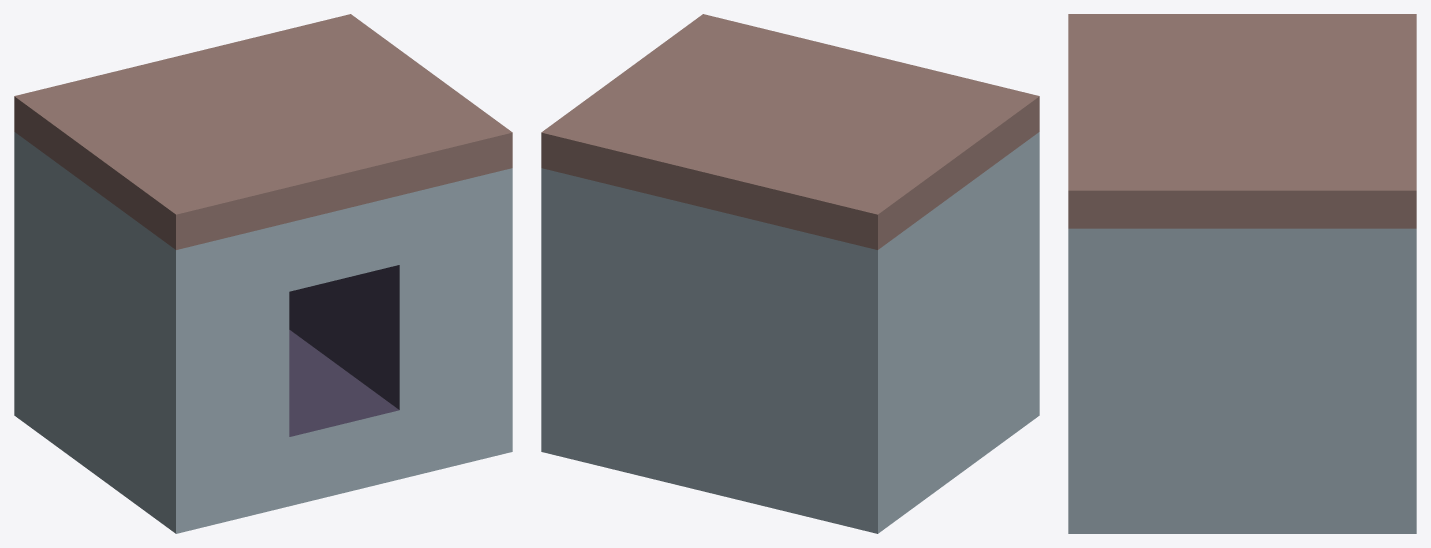
Rendered from Lv2Exit.fbx.
3 renders of one model, left to right at view 1: azimuth 30°, elevation 25°; view 2: azimuth 150°, elevation 25°; view 3: azimuth 270°, elevation 25°, orthographic. The views are drawn at different scales.
Parts seen in each view (by area): view 1: Lv2Exit; view 2: Lv2Exit; view 3: Lv2Exit.
Part boxes in pixels (x1,y1,x2,y2): Lv2Exit: (14, 14, 512, 533); Lv2Exit: (541, 14, 1039, 533); Lv2Exit: (1068, 14, 1416, 533).
Bounding box in the file's own units: 4800 × 4350 × 4000.
